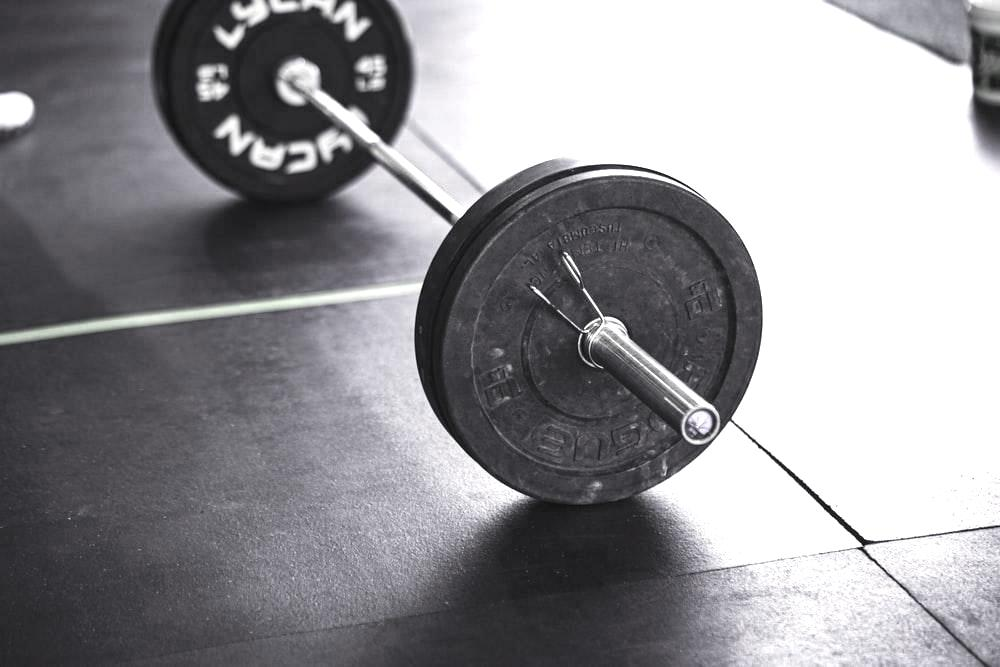Barbell: (677, 396, 734, 447)
